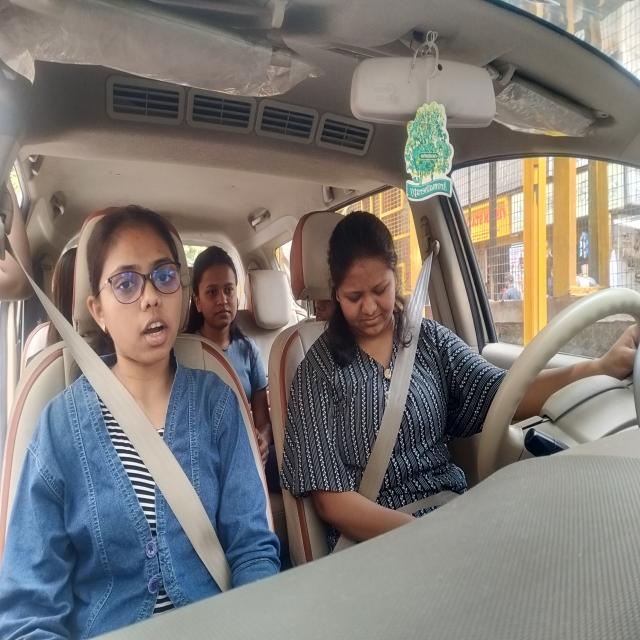drowsy: (317, 205, 407, 369)
person: (80, 186, 194, 373), (197, 220, 255, 367)
